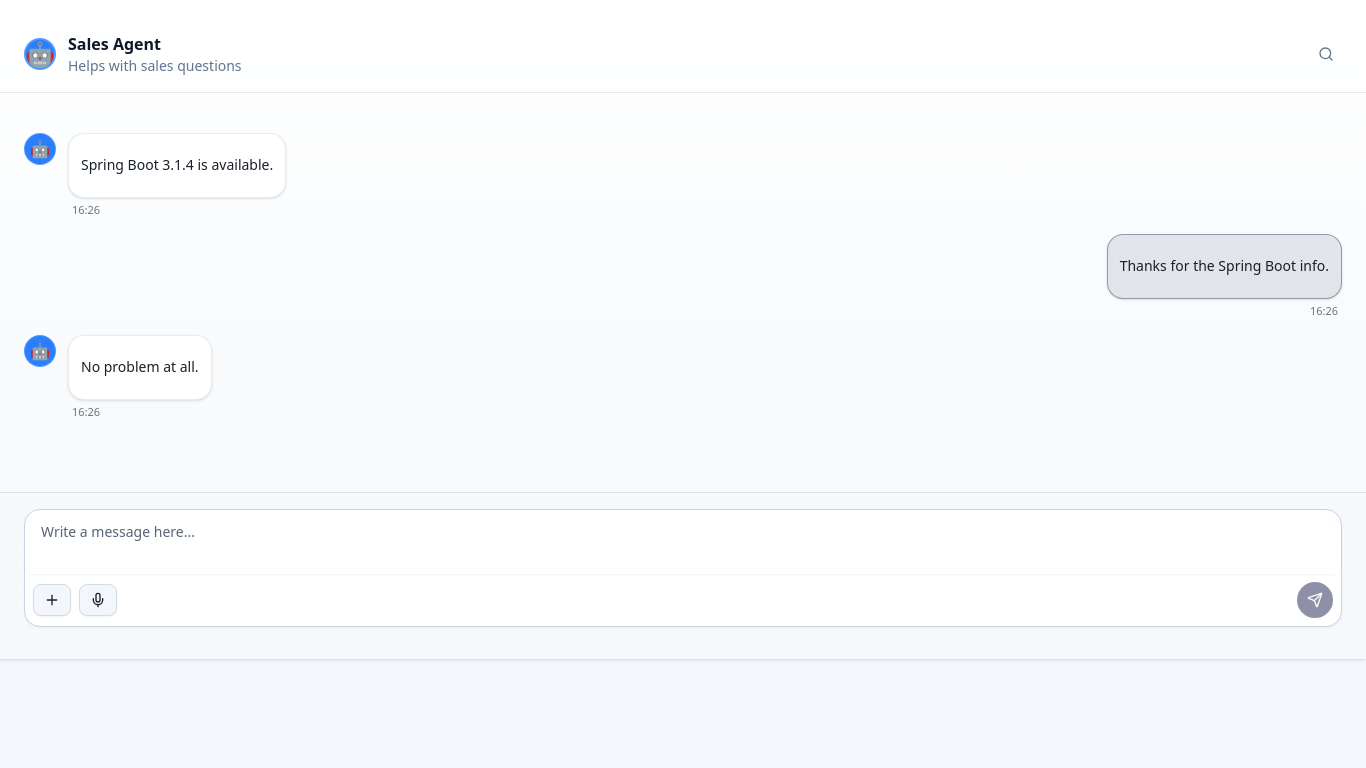
Test: ChatInterface › search bar › shows "No results" when the search term has no matches
Press f
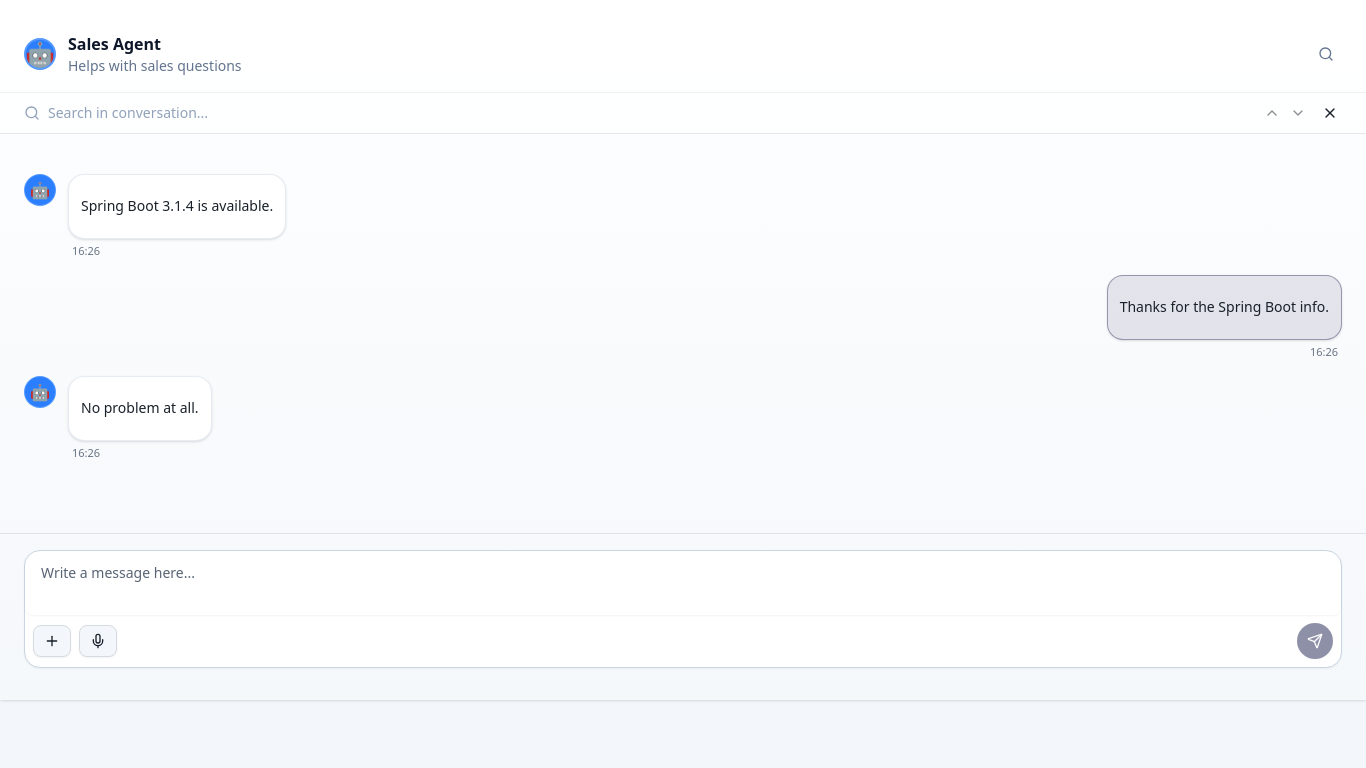
Type "Django" into the field with placeholder "Search in conversation...".
click(650, 113); type("Django")  # box left=48, top=103, right=1252, bottom=123
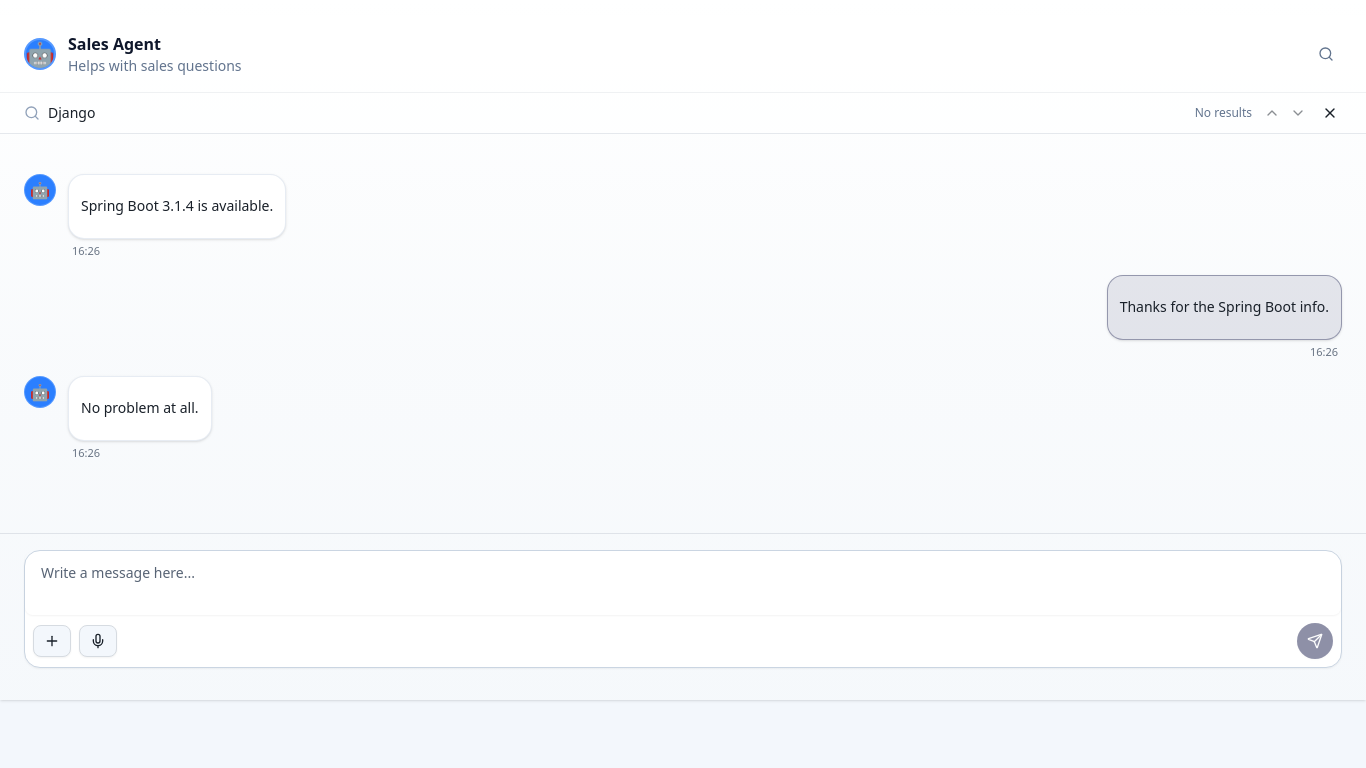
Now the text "No results" is shown, box left=1195, top=105, right=1252, bottom=121
